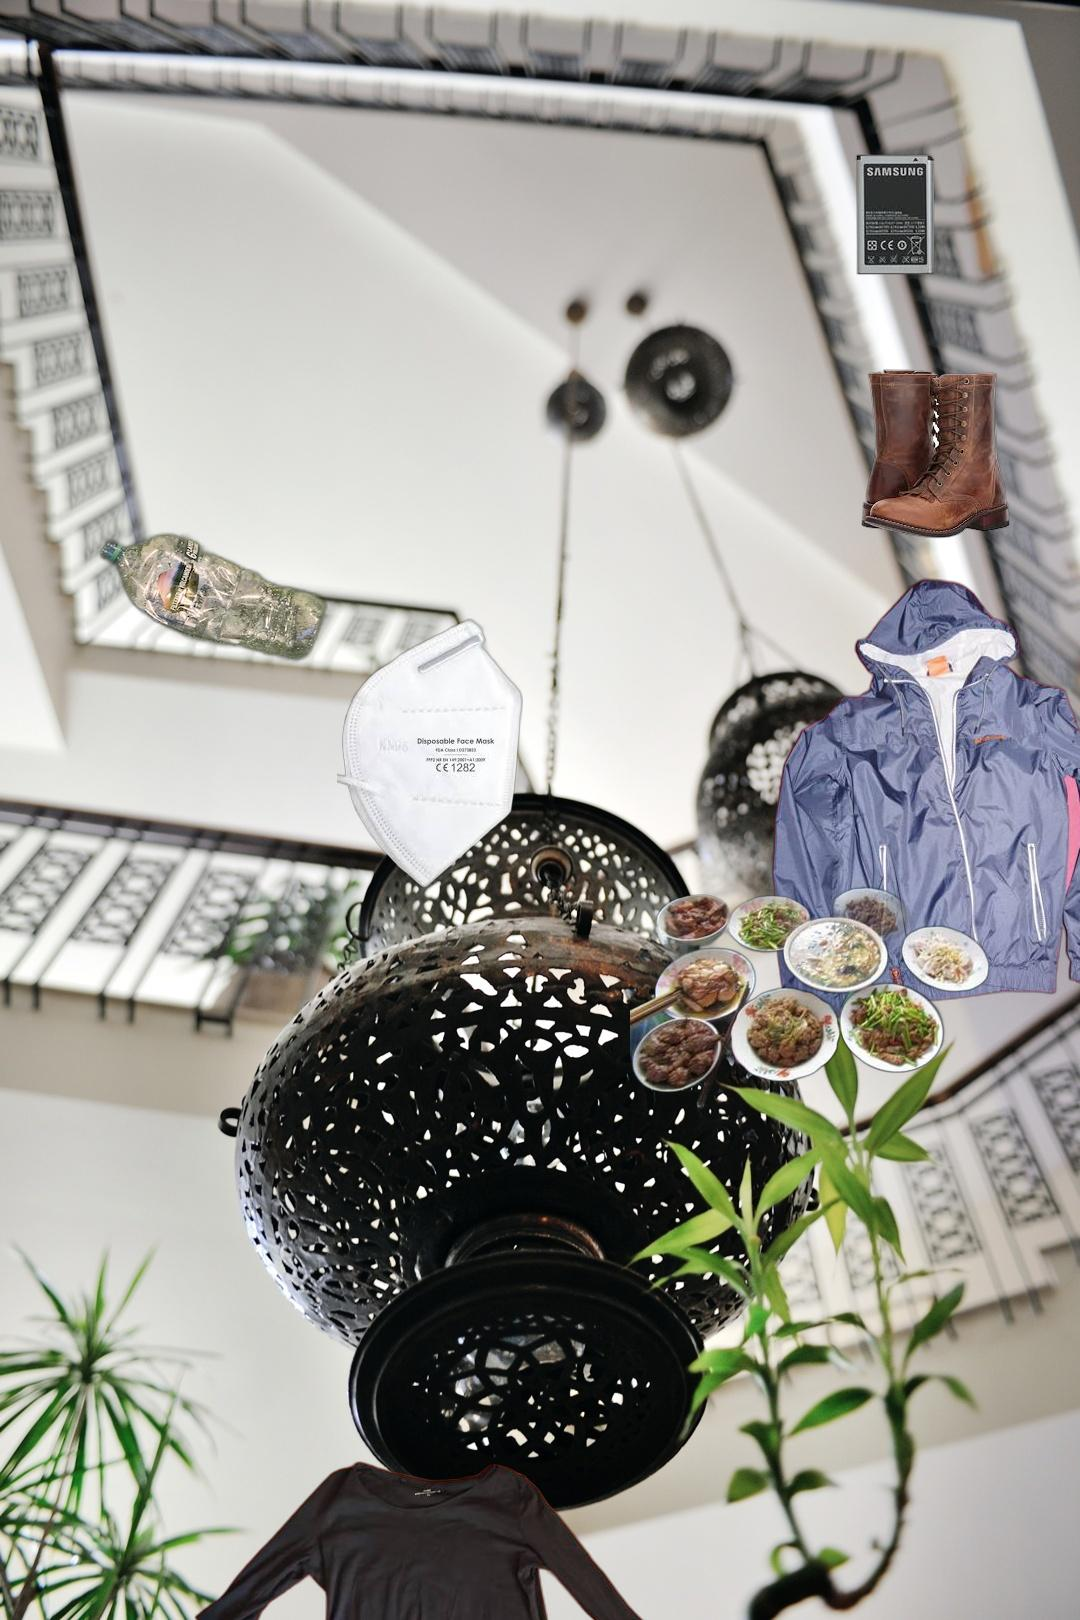battery: (853, 152, 937, 277)
biological: (630, 885, 993, 1112)
clothes: (769, 574, 1080, 1026), (190, 1459, 650, 1620)
plastic-bottles: (95, 529, 331, 668)
shoes: (806, 365, 1012, 551)
trash: (337, 618, 523, 888)
